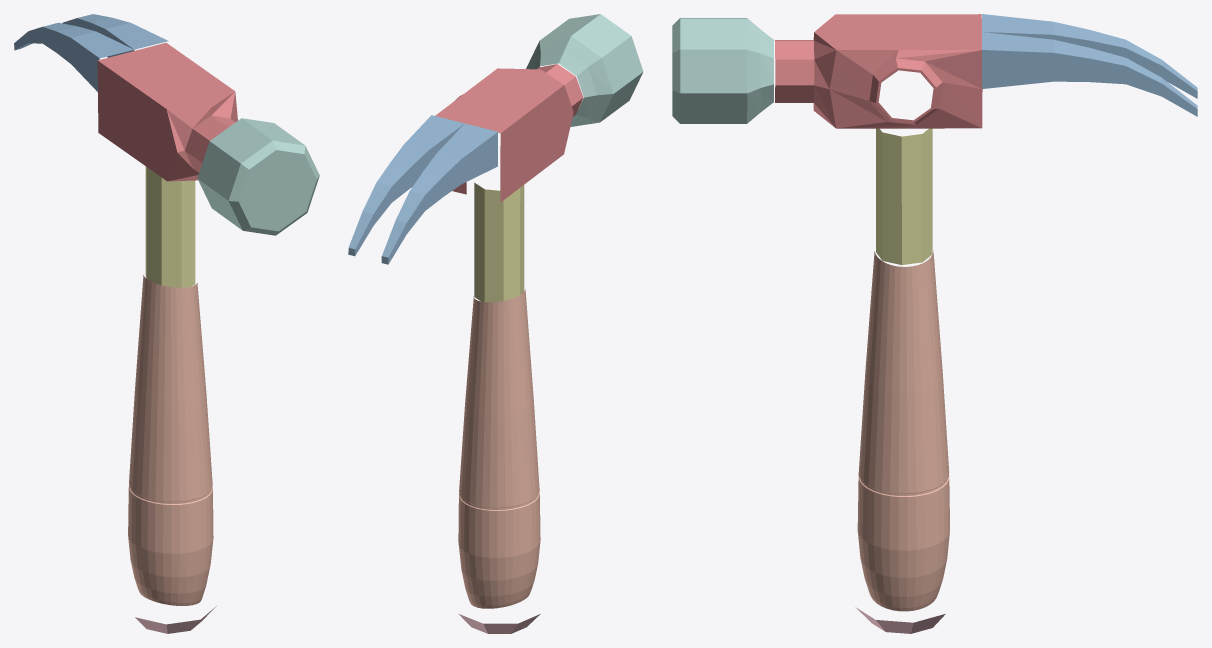
Rendered from 64763_assembly.glb.
3 renders of one model, left to right at view 1: azimuth 30°, elevation 25°; view 2: azimuth 150°, elevation 25°; view 3: azimuth 270°, elevation 25°, orthographic. The views are drawn at different scales.
Parts seen in each view (by area): view 1: part_01, part_00, part_04, part_03, part_05, part_02; view 2: part_01, part_00, part_05, part_04, part_03, part_02; view 3: part_01, part_00, part_05, part_04, part_03, part_02.
Part boxes in pixels (x1,y1,x2,y2): part_01: (128, 275, 213, 605); part_00: (97, 42, 237, 181); part_04: (197, 118, 319, 235); part_03: (145, 166, 195, 287); part_05: (14, 14, 168, 91); part_02: (135, 606, 216, 633); part_01: (458, 289, 540, 608); part_00: (435, 64, 583, 202); part_05: (348, 115, 497, 264); part_04: (526, 14, 643, 126); part_03: (474, 182, 524, 302); part_02: (459, 614, 540, 633); part_01: (857, 250, 949, 611); part_00: (775, 14, 982, 128); part_05: (982, 14, 1197, 116); part_04: (672, 18, 773, 123); part_03: (876, 128, 932, 264); part_02: (855, 607, 945, 633).
Bounding box in the file's own units: 0.2957 × 1.72 × 1.36.
